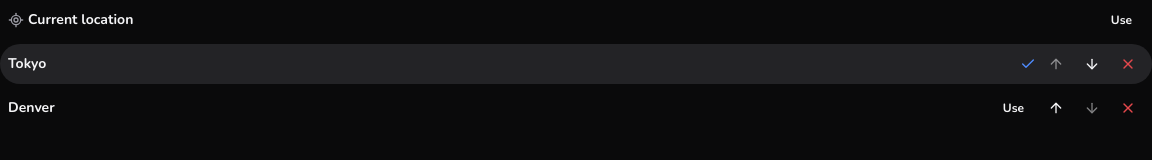
Test case: LocationsForm › reorders, activates, and removes saved locations
Expected: the text "Tokyo" is shown, [8,54,46,73]
Click the button named "Move Denver up": x=1056, y=108 [1040,92,1072,124]
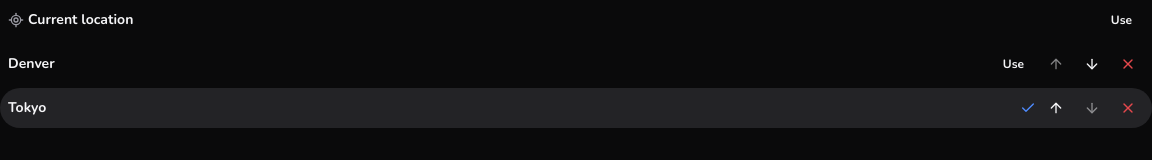
Click the button with aria-label "Use Denver": x=1013, y=64 [991,48,1036,80]
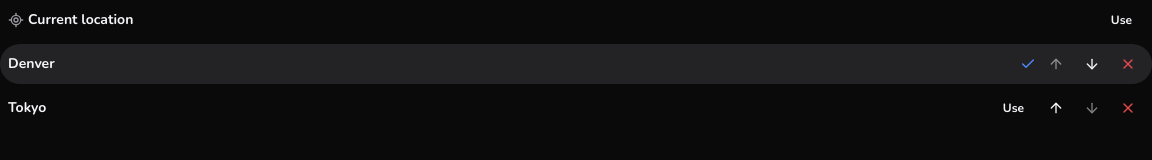
Click the button with aria-label "Use current location": x=1121, y=20 [1099,4,1144,36]
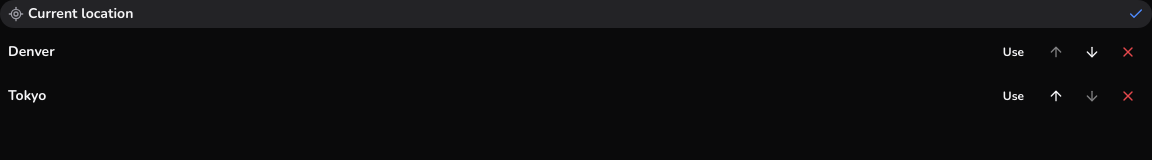
Click the button named "Remove Tokyo": x=1128, y=96 [1112,80,1144,112]
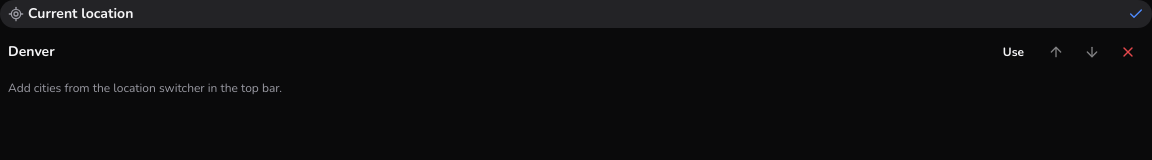
Expected: the text "Add cities from the location switcher in the top bar." is shown, [8,80,282,96]
